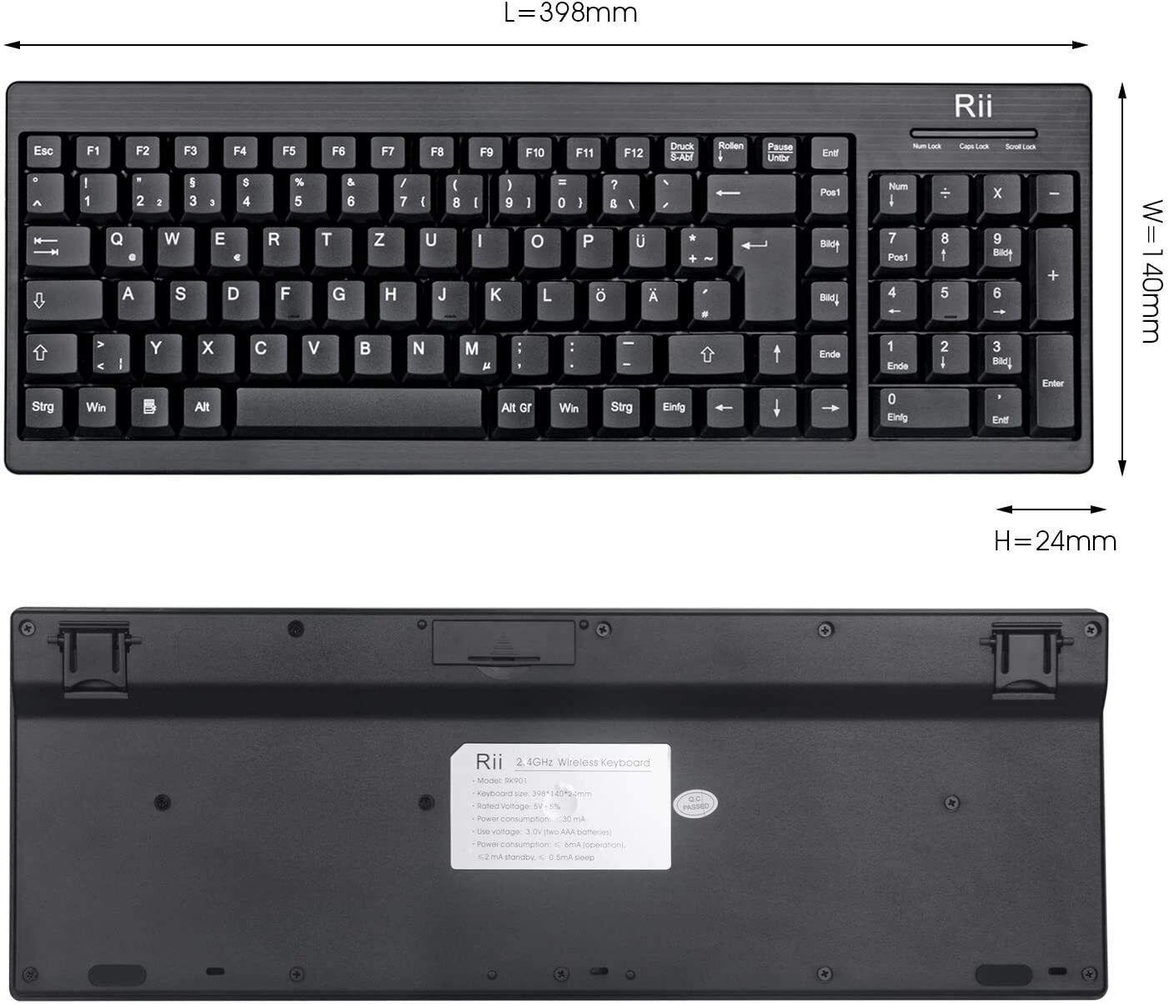0: (546, 170, 587, 213)
1: (75, 169, 116, 213)
2: (127, 169, 168, 213)
3: (178, 169, 221, 213)
4: (232, 169, 272, 213)
5: (284, 169, 326, 213)
6: (337, 169, 378, 213)
7: (390, 169, 430, 213)
8: (441, 170, 482, 215)
9: (493, 170, 536, 214)
a: (113, 275, 153, 319)
accent: (651, 169, 691, 212)
ae: (637, 275, 676, 319)
alt-left: (179, 383, 222, 426)
altgr-right: (493, 384, 536, 427)
b: (349, 329, 390, 373)
c: (245, 329, 286, 372)
caret: (23, 168, 63, 213)
comma: (506, 330, 547, 374)
d: (218, 275, 258, 319)
del: (704, 169, 795, 213)
e: (206, 222, 247, 266)
enter: (728, 222, 795, 321)
f: (271, 276, 310, 318)
g: (323, 275, 363, 319)
h: (375, 277, 415, 319)
hash: (689, 276, 729, 319)
i: (468, 224, 508, 266)
j: (428, 276, 468, 319)
k: (480, 276, 521, 320)
keyboard: (4, 71, 1101, 479)
l: (533, 277, 572, 319)
less: (88, 329, 129, 374)
m: (454, 329, 496, 374)
minus: (610, 329, 652, 373)
n: (403, 329, 444, 372)
o: (519, 223, 560, 266)
oe: (584, 276, 624, 319)
p: (571, 223, 612, 267)
plus: (675, 222, 716, 266)
point: (558, 329, 600, 373)
q: (100, 222, 143, 266)
r: (258, 222, 299, 266)
s: (165, 275, 206, 319)
shift-left: (21, 329, 76, 373)
shift-lock: (21, 274, 102, 319)
shift-right: (665, 329, 744, 374)
space: (233, 383, 484, 429)
ss: (598, 170, 639, 213)
strg-left: (21, 383, 63, 427)
strg-right: (600, 383, 642, 427)
t: (311, 222, 350, 265)
tab: (21, 221, 88, 266)
u: (415, 223, 455, 266)
ue: (624, 223, 665, 267)
v: (298, 329, 338, 373)
w: (153, 221, 193, 266)
x: (193, 329, 234, 372)
y: (140, 329, 181, 372)
z: (364, 222, 404, 266)
